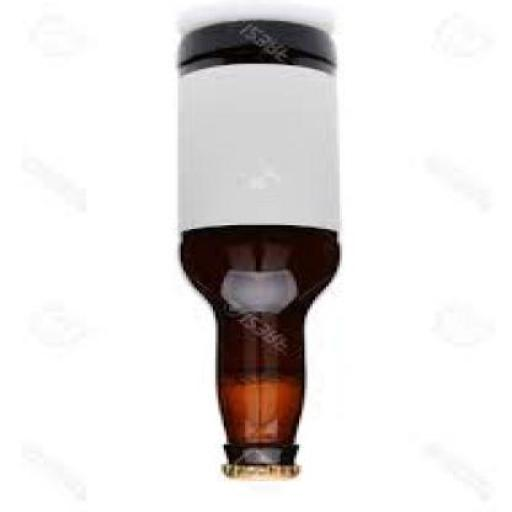glass: (176, 21, 334, 466)
metal: (216, 466, 294, 485)
